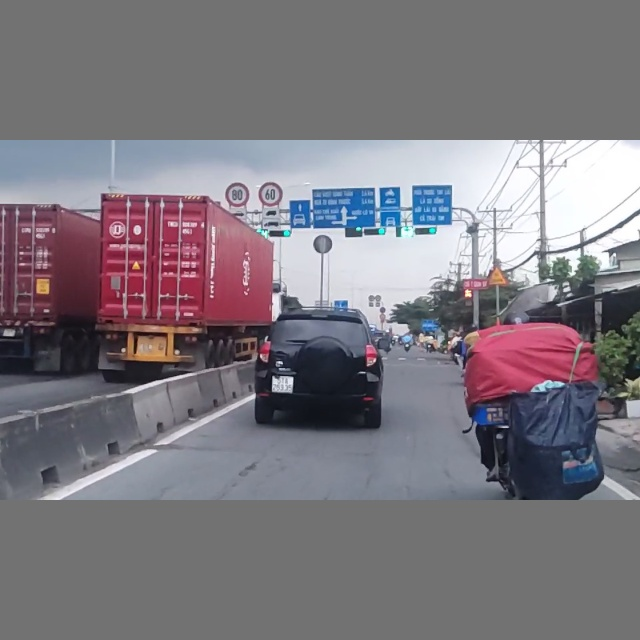P.127*60: (257, 182, 283, 207)
P.127*80: (225, 182, 250, 207)
W.245a: (488, 265, 508, 285)
